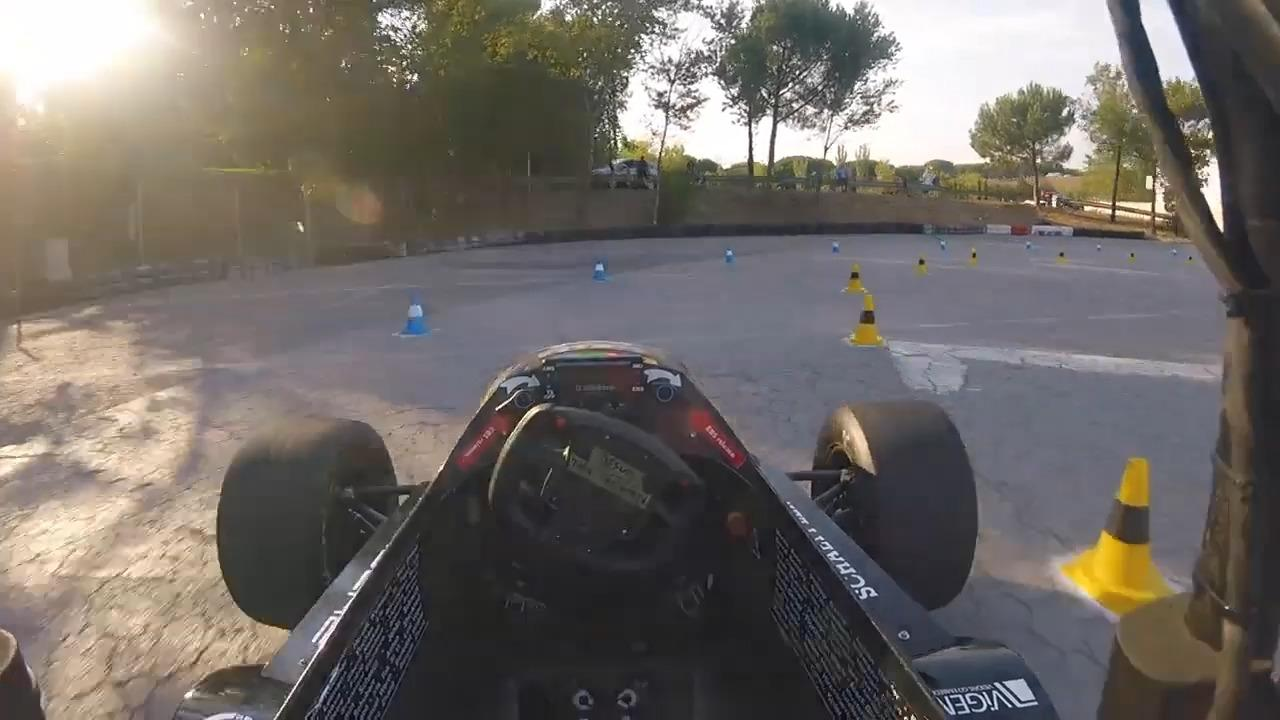blue_cone: (393, 285, 439, 338), (591, 252, 610, 283), (723, 244, 735, 263), (831, 240, 841, 255)
yellow_cone: (1059, 447, 1182, 617), (848, 296, 888, 348), (841, 262, 866, 296), (967, 243, 981, 271), (1056, 242, 1070, 268), (915, 251, 928, 275)
